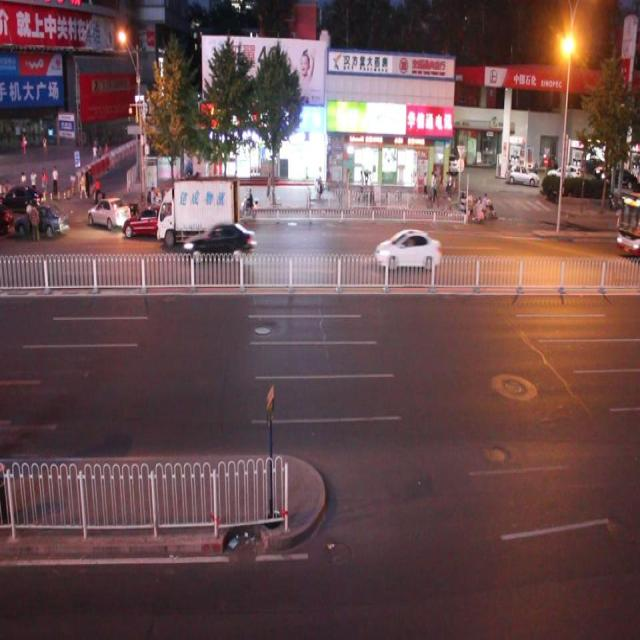bus: (153, 184, 240, 259)
car: (184, 221, 255, 265), (375, 226, 442, 272), (120, 210, 182, 251), (14, 203, 70, 246), (86, 199, 130, 241), (1, 181, 43, 217)
